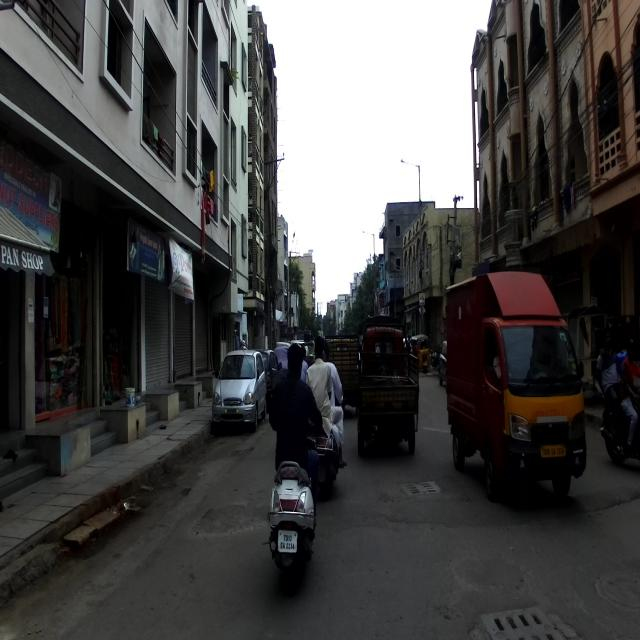autorickshaw: (354, 312, 420, 458)
scooter: (260, 422, 326, 588), (308, 394, 350, 498)
truck: (446, 268, 586, 501)
